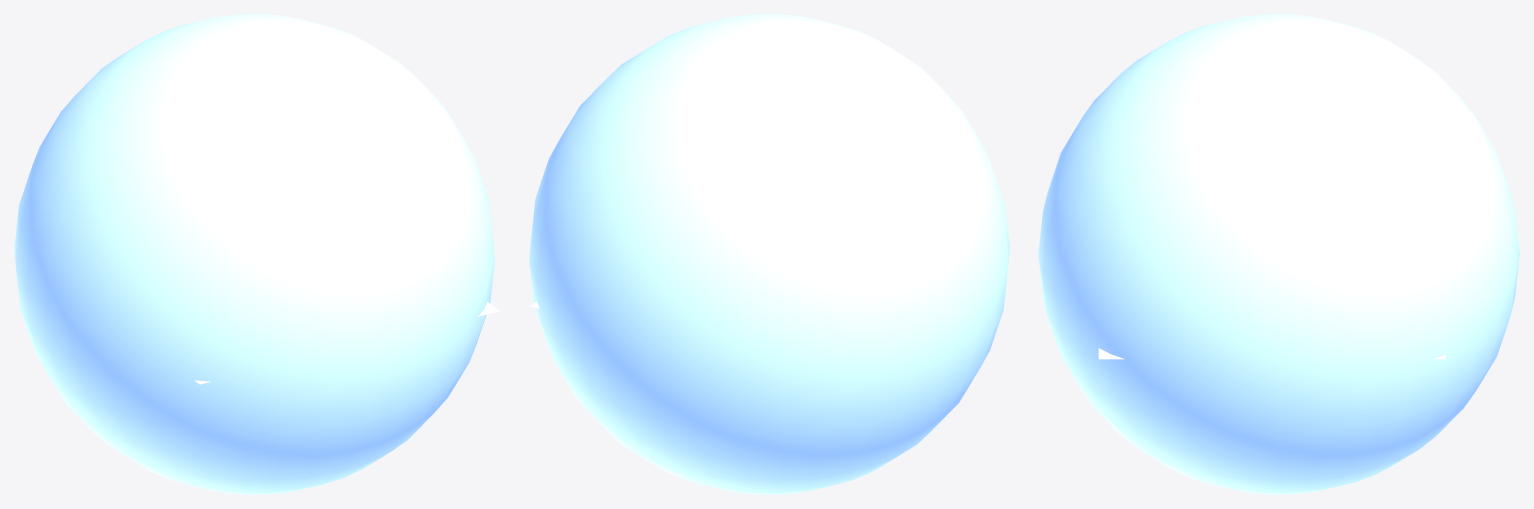
File: Scene3_House.glb
3 renders of one model, left to right at view 1: azimuth 30°, elevation 25°; view 2: azimuth 150°, elevation 25°; view 3: azimuth 270°, elevation 25°, orthographic.
Parts seen in each view (by area): view 1: Skydome; view 2: Skydome; view 3: Skydome.
Boxes of the visible parts, x1,y1,x2,y2 form: Skydome: [14, 14, 494, 494]; Skydome: [529, 14, 1009, 494]; Skydome: [1038, 14, 1519, 494].
Bounding box in the file's own units: 104 × 104 × 104.
